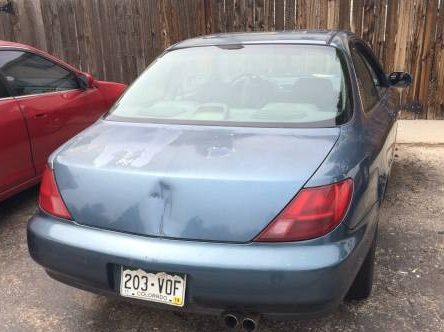acura: (18, 12, 415, 319)
